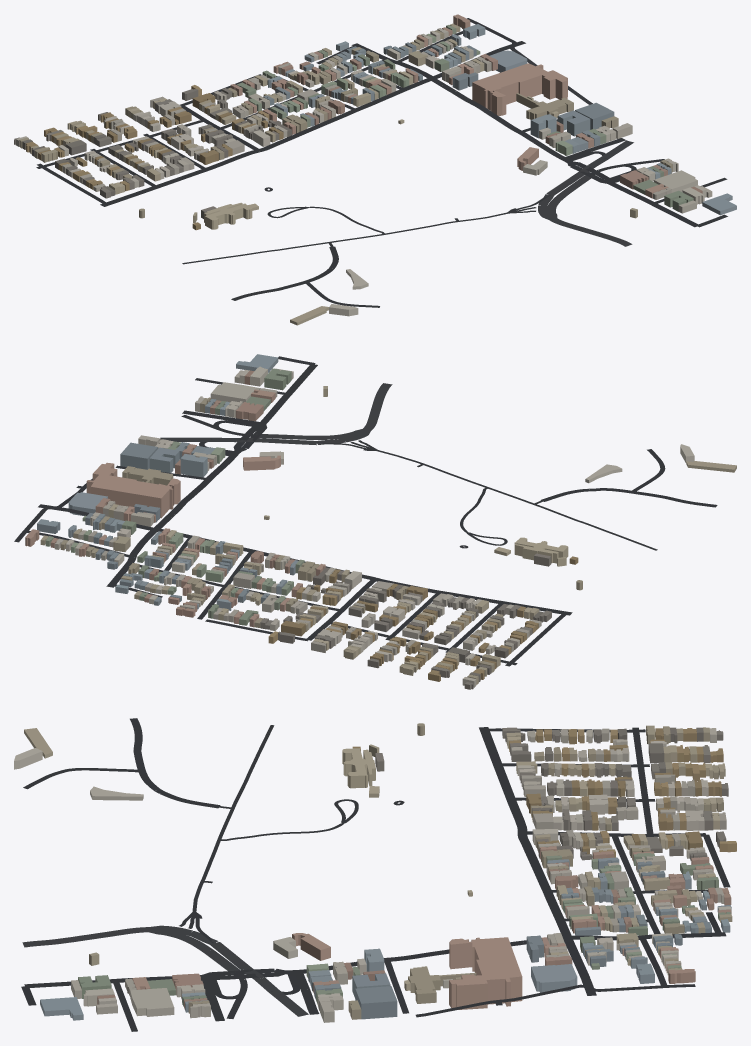
Rendered from tile_7_13.glb.
3 renders of one model, top to bottom at view 1: azimuth 30°, elevation 25°; view 2: azimuth 150°, elevation 25°; view 3: azimuth 270°, elevation 25°, orthographic. The views are drawn at different scales.
Visible parts, largest first — view 1: bld_7_13, road_7_13; view 2: bld_7_13, road_7_13; view 3: bld_7_13, road_7_13.
Part boxes in pixels (x1,y1,x2,y2): bld_7_13: [14, 14, 736, 325]; road_7_13: [36, 18, 727, 307]; bld_7_13: [25, 354, 736, 689]; road_7_13: [14, 356, 717, 666]; bld_7_13: [14, 723, 736, 1022]; road_7_13: [21, 718, 730, 1031].
Size of the model in its own units: 852 by 52.11 by 824.
